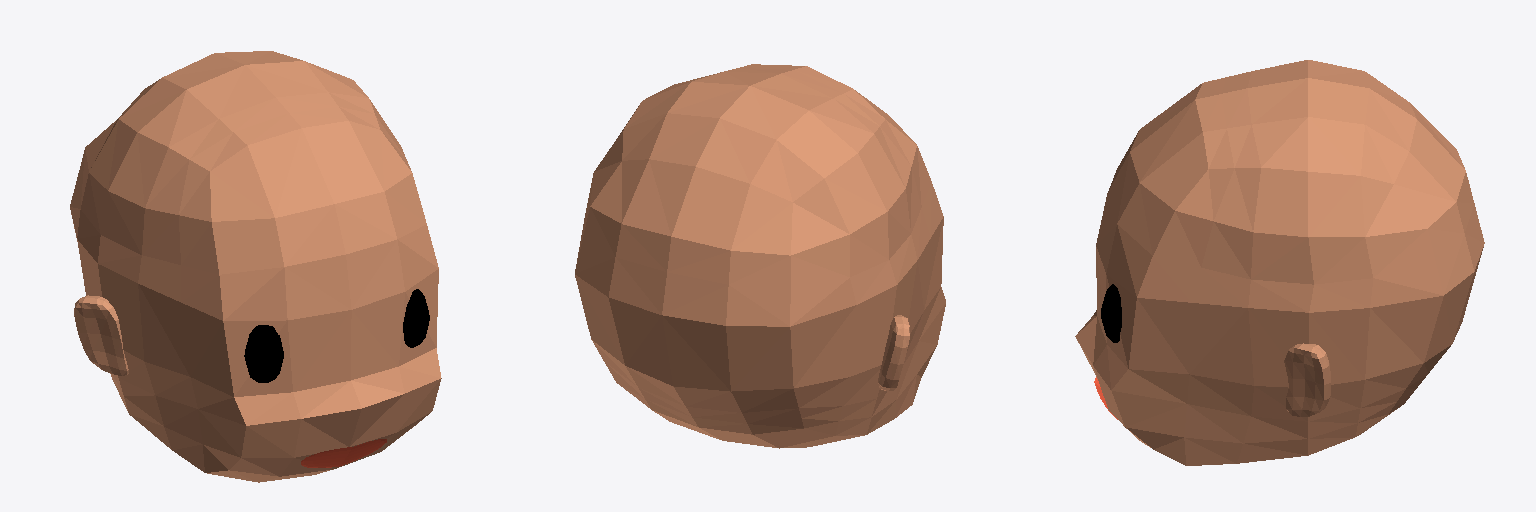
The model's file is Umatchii_V2_ModifiedMouth_Combined.obj.
3 views of the same model, side by side, from view 1: azimuth 30°, elevation 25°; view 2: azimuth 150°, elevation 25°; view 3: azimuth 270°, elevation 25° (orthographic).
Visible parts, largest first — view 1: pCube5; view 2: pCube5; view 3: pCube5.
Boxes of the visible parts, x1,y1,x2,y2 form: pCube5: [70, 51, 441, 482]; pCube5: [575, 64, 945, 448]; pCube5: [1075, 60, 1484, 465].
Size of the model in its own units: 9.05 by 9.63 by 9.94.